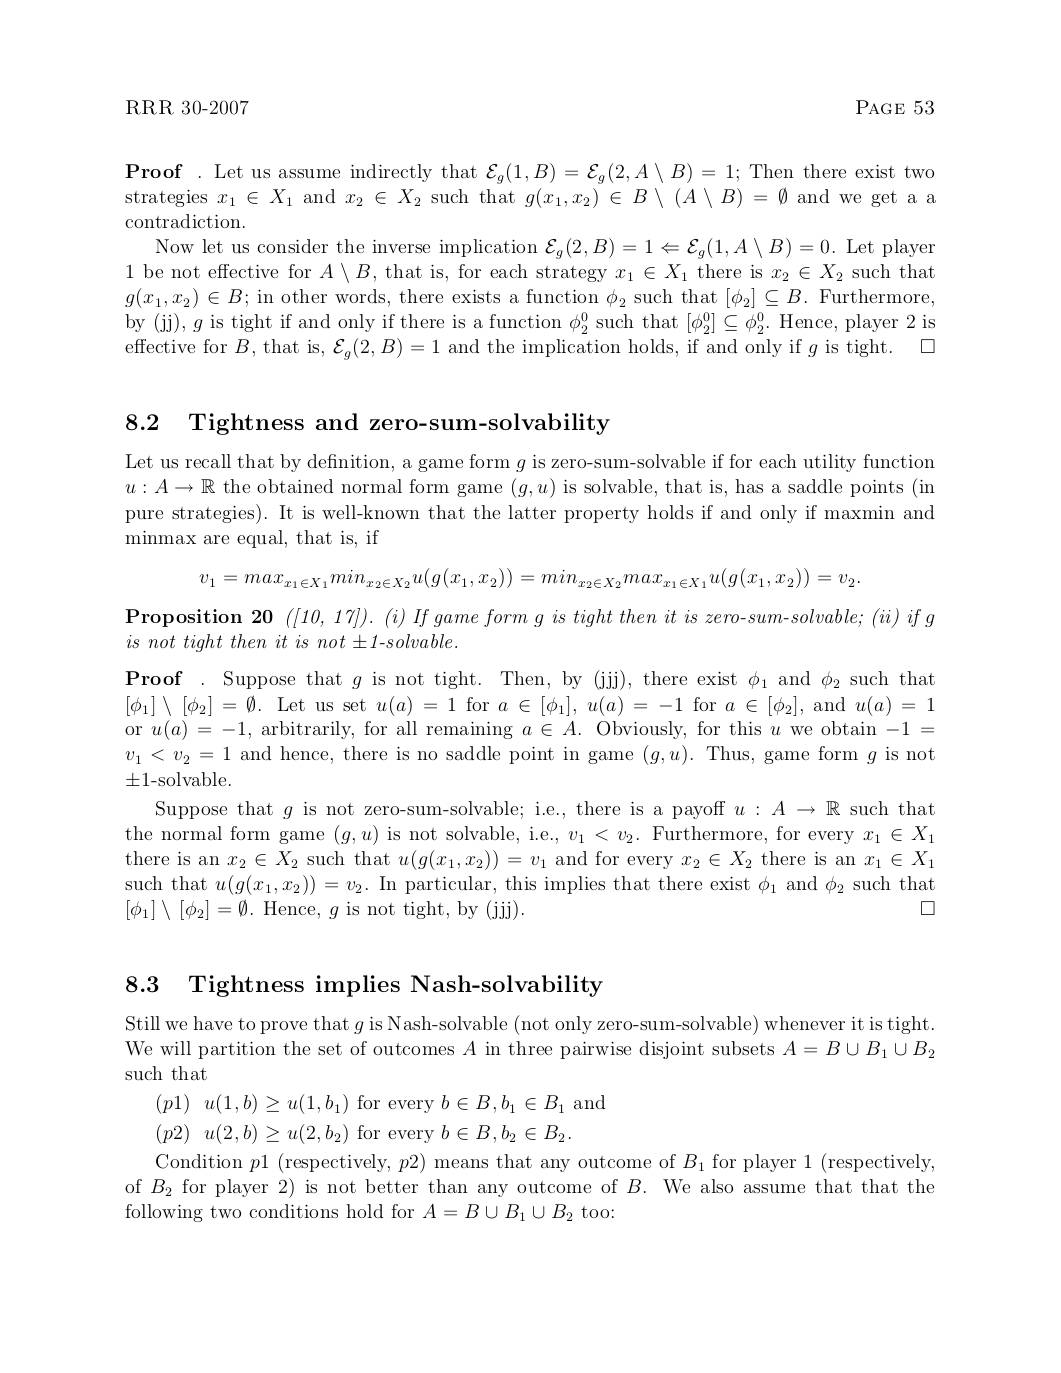formula: (199, 567, 859, 588)
